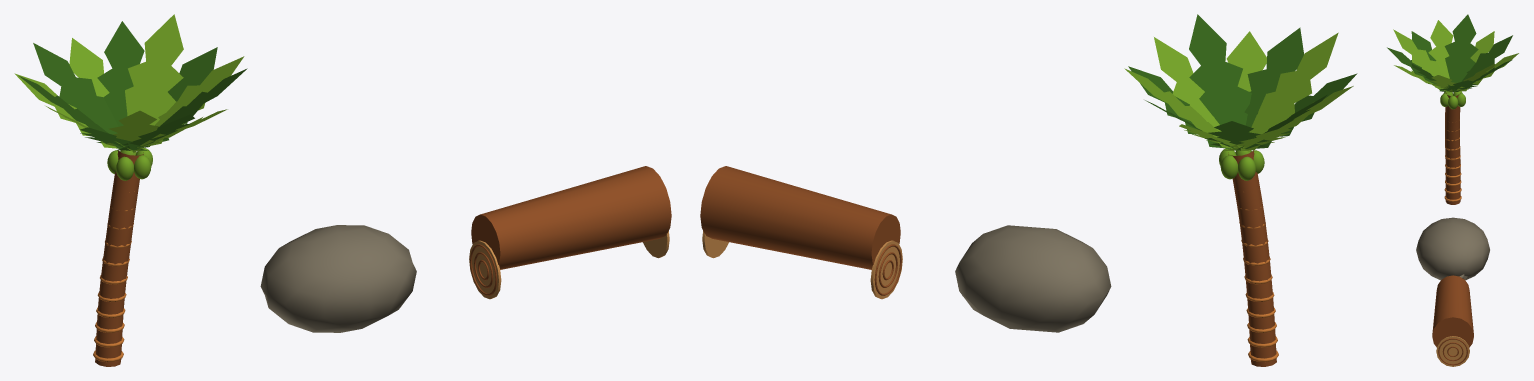
File: jungle-core.glb
3 views of the same model, side by side, from view 1: azimuth 30°, elevation 25°; view 2: azimuth 150°, elevation 25°; view 3: azimuth 270°, elevation 25° (orthographic). The views are drawn at different scales.
Parts seen in each view (by area): view 1: Rock_Main, Log_Trunk, Palm_Trunk, Frond_2, Frond_13, Frond_1, Frond_4, Frond_0, Frond_3, Log_Cut, Palm, Frond_8 (+6 smaller); view 2: Rock_Main, Log_Trunk, Palm_Trunk, Frond_5, Frond_8, Frond_7, Frond_4, Frond_6, Frond_2, Log_Cut, Palm, Frond_13 (+4 smaller); view 3: Rock_Main, Log_Trunk, Frond_11, Palm_Trunk, Frond_10, Frond_8, Log_Cut, Frond_13, Palm, Frond_12, Log, Frond_7 (+8 smaller).
Boxes of the visible parts, <box> form: Rock_Main: <box>260,225,416,332</box>; Log_Trunk: <box>471,166,671,269</box>; Palm_Trunk: <box>95,150,143,366</box>; Frond_2: <box>125,14,183,125</box>; Frond_13: <box>33,43,118,134</box>; Frond_1: <box>97,21,144,126</box>; Frond_4: <box>152,56,244,145</box>; Frond_0: <box>69,38,109,97</box>; Frond_3: <box>162,47,217,141</box>; Log_Cut: <box>469,240,501,299</box>; Palm: <box>93,191,136,362</box>; Frond_8: <box>106,110,165,147</box>; Rock_Main: <box>955,225,1111,332</box>; Log_Trunk: <box>700,166,900,269</box>; Palm_Trunk: <box>1228,150,1276,366</box>; Frond_5: <box>1189,14,1251,125</box>; Frond_8: <box>1249,32,1338,133</box>; Frond_7: <box>1244,27,1303,132</box>; Frond_4: <box>1154,37,1221,131</box>; Frond_6: <box>1226,31,1266,91</box>; Frond_2: <box>1124,68,1232,148</box>; Log_Cut: <box>870,240,902,299</box>; Palm: <box>1238,190,1278,362</box>; Frond_13: <box>1205,121,1270,149</box>; Rock_Main: <box>1416,217,1489,280</box>; Log_Trunk: <box>1432,275,1473,347</box>; Frond_11: <box>1444,14,1478,82</box>; Palm_Trunk: <box>1445,93,1460,204</box>; Frond_10: <box>1428,20,1453,78</box>; Frond_8: <box>1393,29,1444,76</box>; Log_Cut: <box>1436,336,1469,366</box>; Frond_13: <box>1461,35,1512,87</box>; Palm: <box>1444,120,1461,201</box>; Frond_12: <box>1470,31,1494,62</box>; Log: <box>1438,338,1467,365</box>; Frond_7: <box>1387,47,1443,90</box>.
Bounding box in the file's own units: 5.42 × 2.67 × 1.78.
